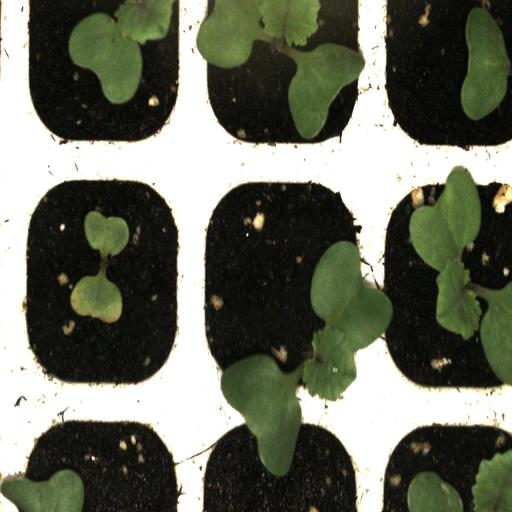Folha: (68, 0, 174, 105), (406, 448, 512, 512), (461, 7, 512, 121), (0, 469, 84, 512), (72, 272, 123, 317), (84, 210, 130, 257)
Germinacao: (192, 169, 375, 403), (10, 167, 192, 402), (377, 171, 512, 407), (192, 0, 377, 163)
